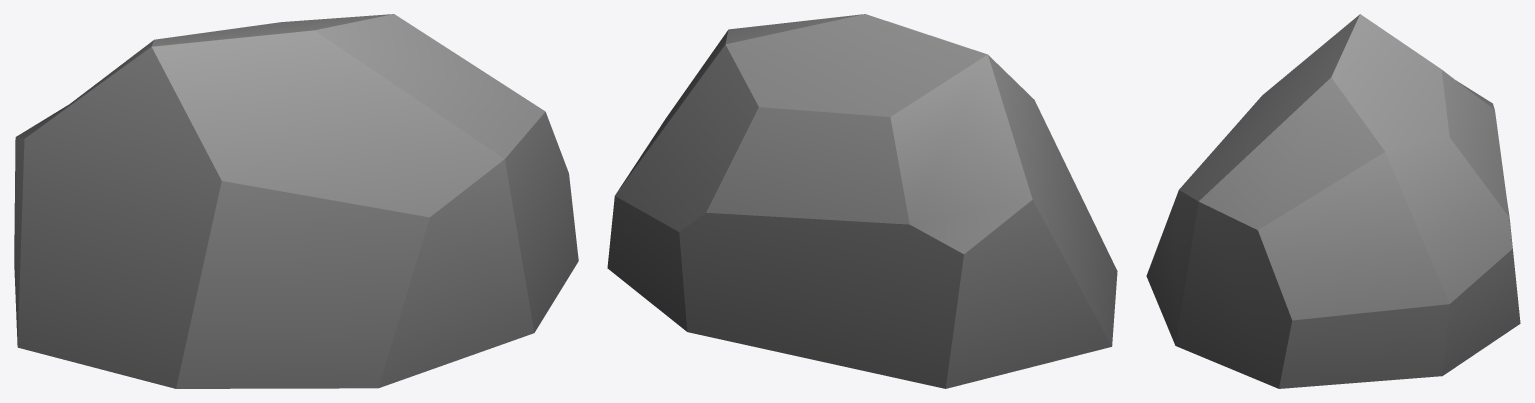
Rendered from stone small 7.fbx.
3 renders of one model, left to right at view 1: azimuth 30°, elevation 25°; view 2: azimuth 150°, elevation 25°; view 3: azimuth 270°, elevation 25°, orthographic. The views are drawn at different scales.
Visible parts, largest first — view 1: stone small 7; view 2: stone small 7; view 3: stone small 7.
Part boxes in pixels (x1,y1,x2,y2): stone small 7: [14, 14, 578, 388]; stone small 7: [607, 14, 1117, 388]; stone small 7: [1146, 14, 1520, 388].
Bounding box in the file's own units: 128 × 64.72 × 98.42.
